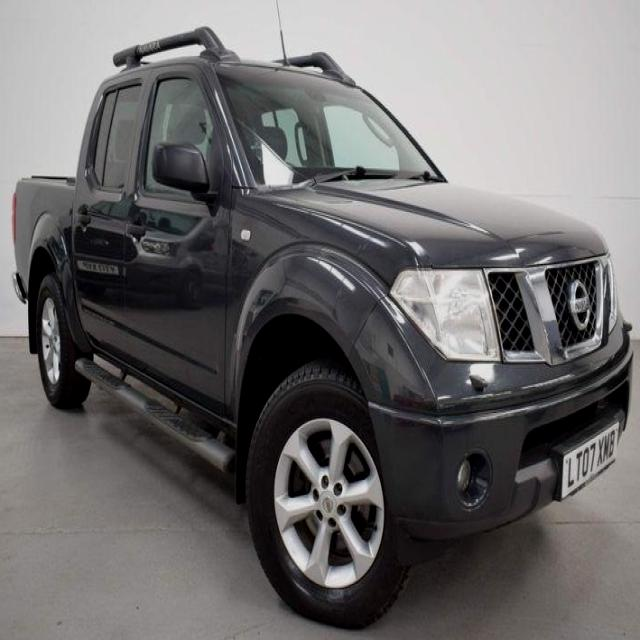CMT: (32, 41, 640, 628)
